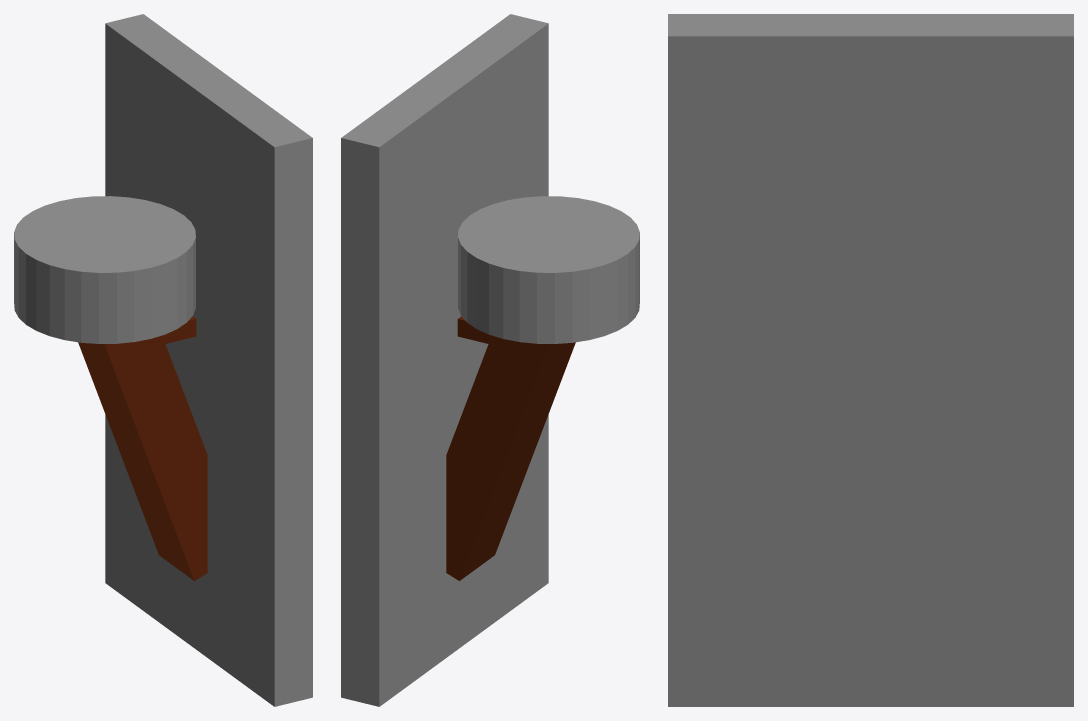
The model's file is Torch.fbx.
3 renders of one model, left to right at view 1: azimuth 30°, elevation 25°; view 2: azimuth 150°, elevation 25°; view 3: azimuth 270°, elevation 25°, orthographic. The views are drawn at different scales.
Visible parts, largest first — view 1: Cube, Cylinder, Cube.001, Cube.002; view 2: Cube, Cylinder, Cube.001, Cube.002; view 3: Cube.
Boxes of the visible parts, left/top/right/bottom form: Cube: left=105, top=14, right=312, bottom=706; Cylinder: left=14, top=196, right=195, bottom=343; Cube.001: left=78, top=335, right=207, bottom=580; Cube.002: left=162, top=316, right=196, bottom=343; Cube: left=341, top=14, right=548, bottom=706; Cylinder: left=458, top=196, right=639, bottom=343; Cube.001: left=446, top=335, right=575, bottom=580; Cube.002: left=457, top=316, right=491, bottom=343; Cube: left=668, top=14, right=1073, bottom=706.
Size of the model in its own units: 55.4 by 147 by 80.41.
